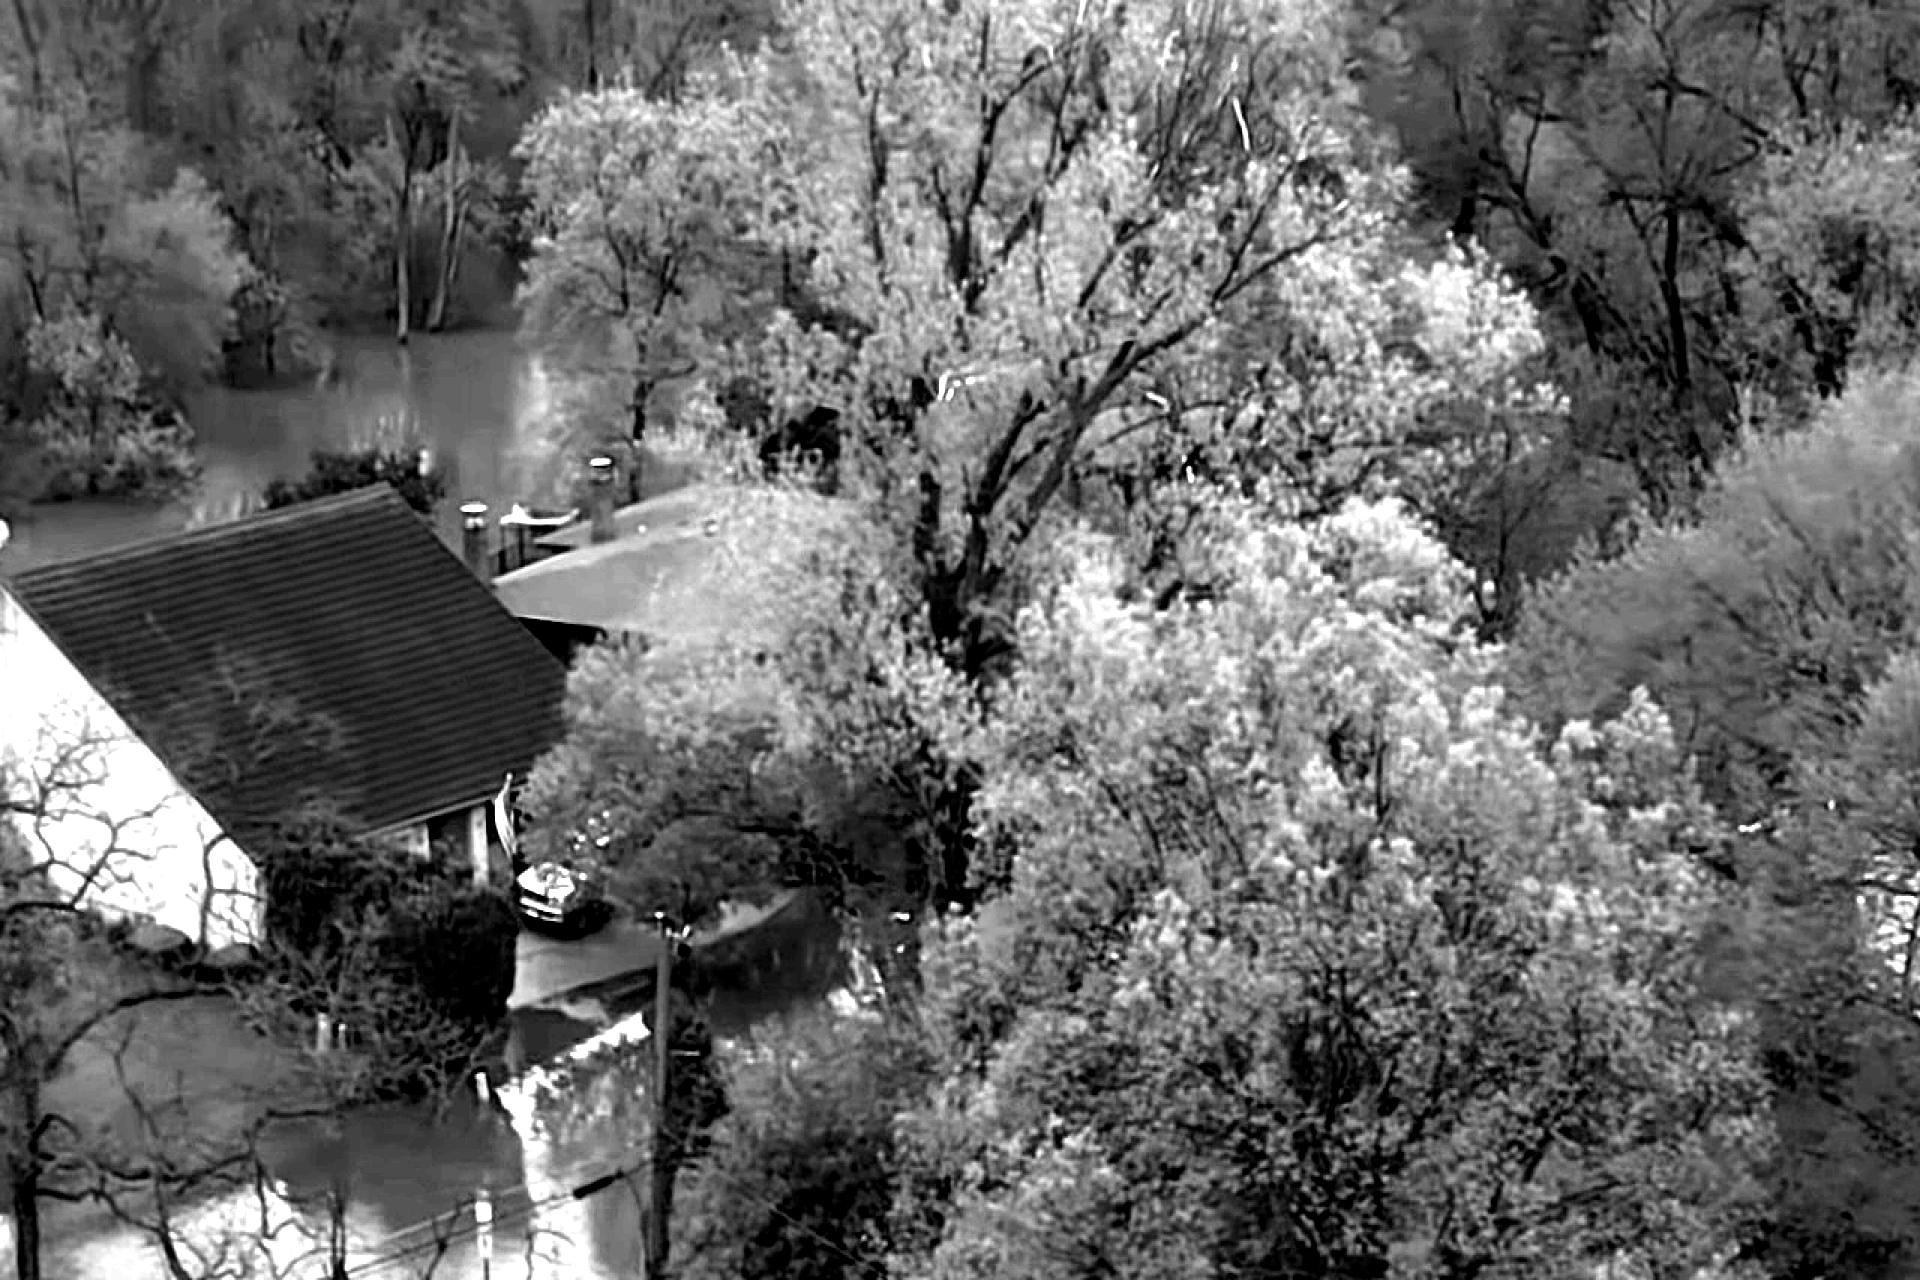House: (0, 489, 574, 947), (491, 450, 780, 637)
